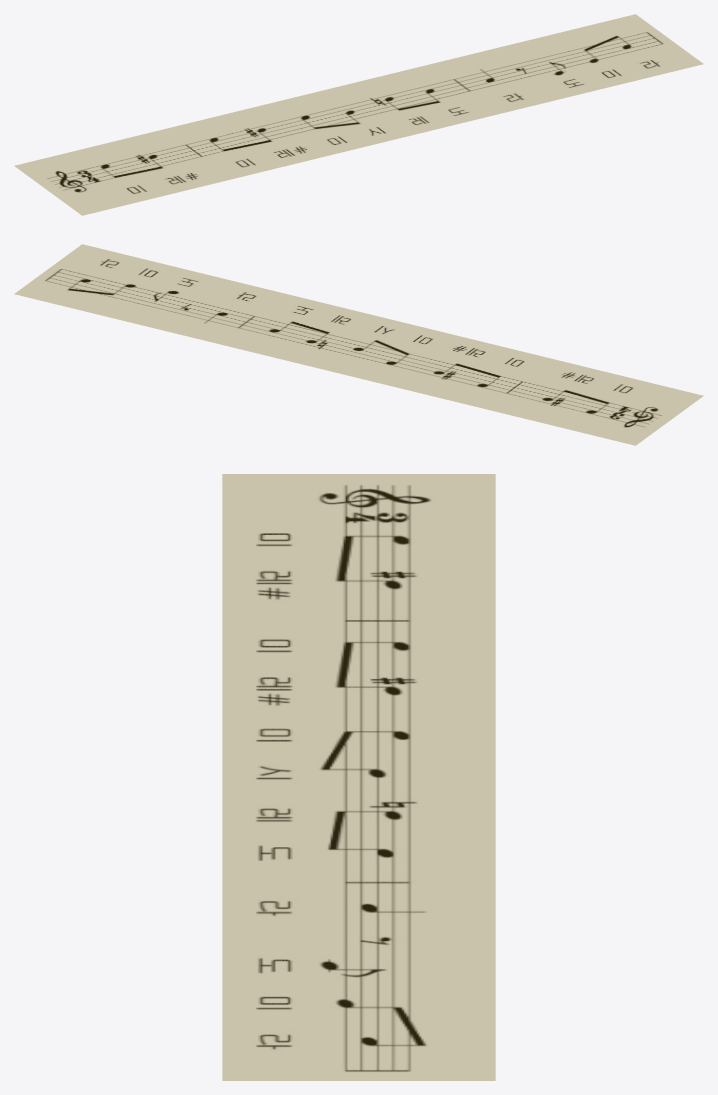
Rendered from SheetMusic.fbx.
3 renders of one model, top to bottom at view 1: azimuth 30°, elevation 25°; view 2: azimuth 150°, elevation 25°; view 3: azimuth 270°, elevation 25°, orthographic. The views are drawn at different scales.
Visible parts, largest first — view 1: Sheet Music, Sheet Music_B, Sheet Music_A; view 2: Sheet Music, Sheet Music_B, Sheet Music_A; view 3: Sheet Music, Sheet Music_B, Sheet Music_A.
Part boxes in pixels (x1,y1,x2,y2): Sheet Music: (15, 14, 703, 215); Sheet Music_B: (311, 14, 702, 143); Sheet Music_A: (14, 86, 400, 215); Sheet Music: (15, 244, 703, 445); Sheet Music_B: (14, 244, 371, 370); Sheet Music_A: (311, 328, 702, 444); Sheet Music: (222, 474, 495, 1080); Sheet Music_B: (222, 757, 495, 1080); Sheet Music_A: (222, 474, 495, 791).
Size of the model in its own units: 526 by 1.63e-05 by 100.
2 materials, 2 textured.
